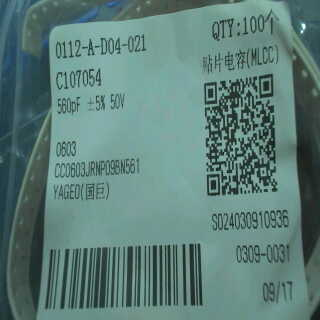560pF: (53, 95, 86, 115)
